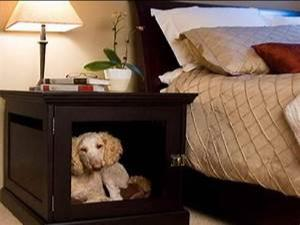dog: (70, 130, 151, 202)
